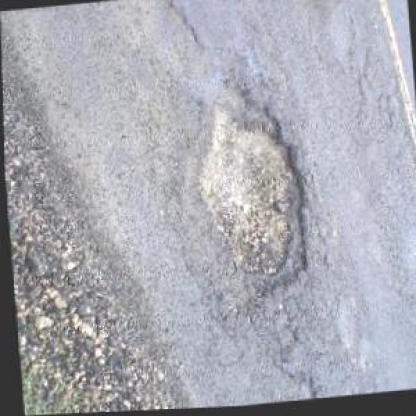pothole: (180, 75, 318, 316)
